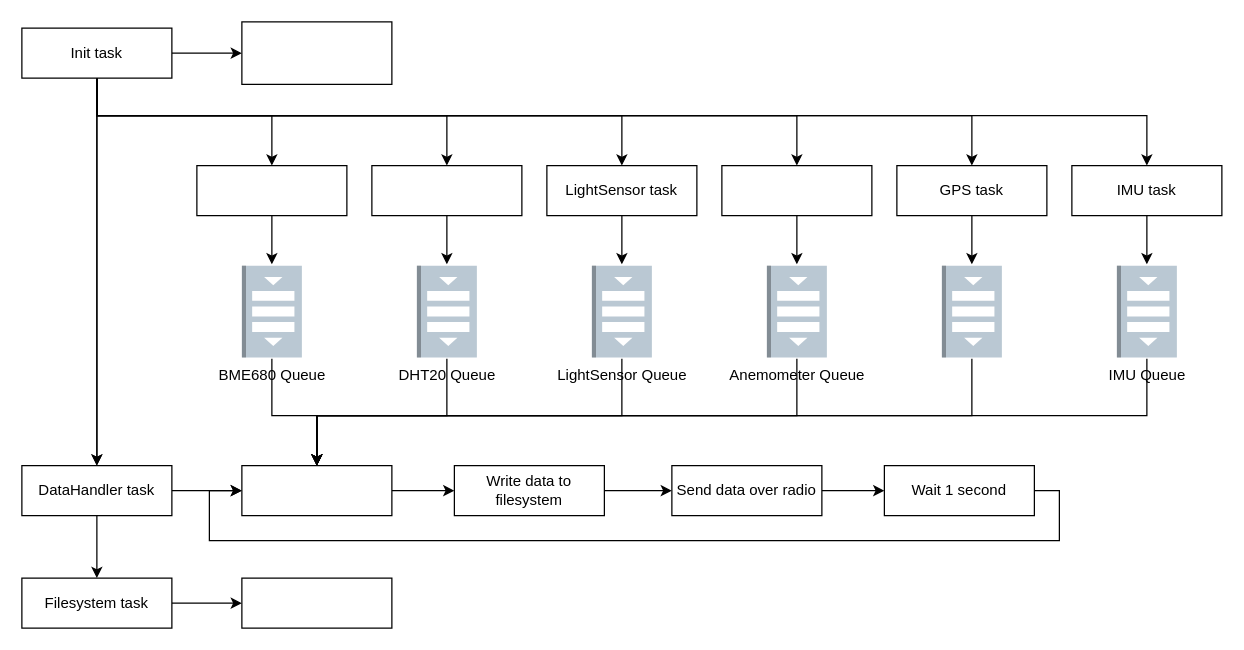
Some shapes in this 1244 by 650 pixel diagram are drawn without their labels. The shapes that lost their labels are listed below. From the top down, each one's centre as x and y in pixels, then its label:
pixel 316 52: Perform initialisation for all sensors and components
pixel 271 190: BME680 task
pixel 446 190: DHT20 task
pixel 796 190: Anemometer task
pixel 971 311: GPS Queue
pixel 316 490: Read from each queue until empty
pixel 316 602: Handle commands
